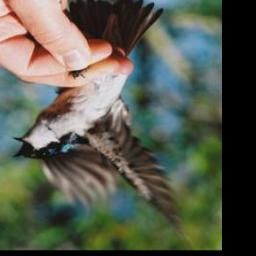Swallow: (9, 0, 196, 248)
